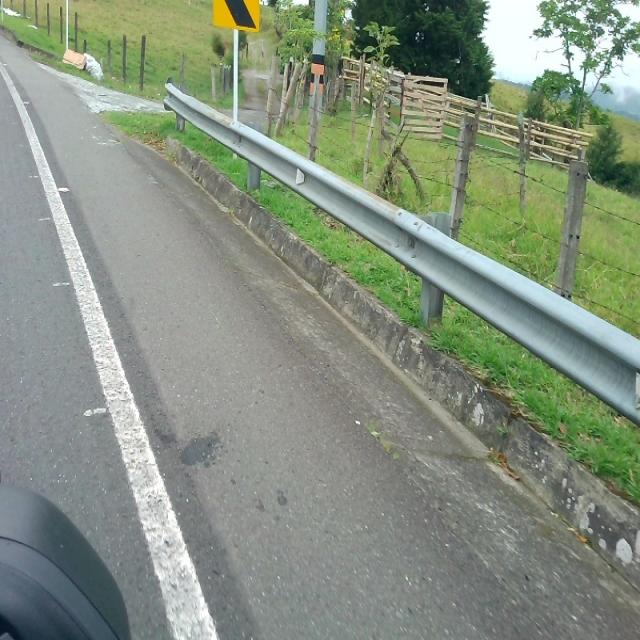DITCH: (1, 30, 638, 638), (3, 84, 638, 638)
